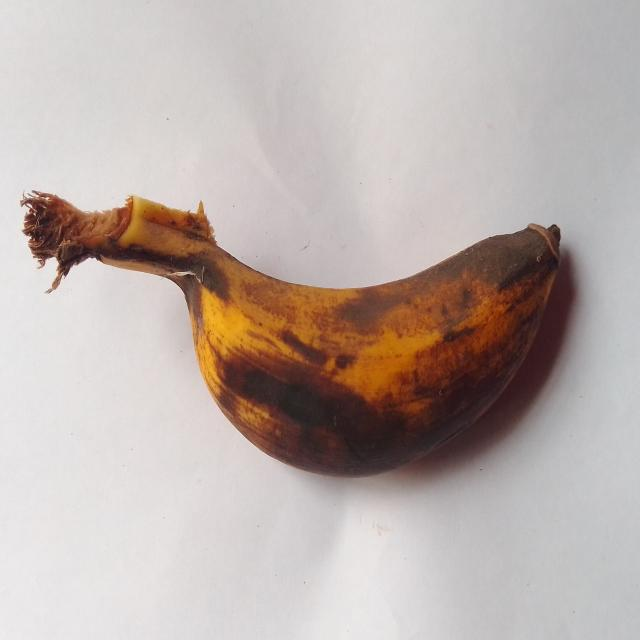banana: (23, 192, 559, 475)
